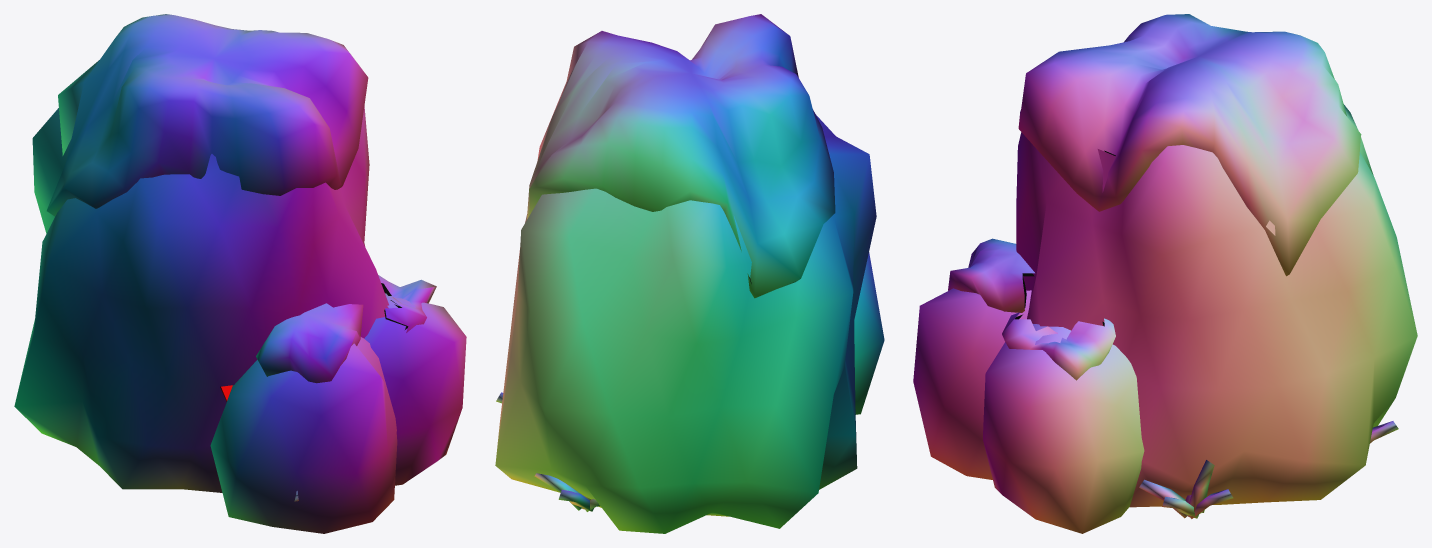
File: SM_Outcrop_March_V1.fbx
3 renders of one model, left to right at view 1: azimuth 30°, elevation 25°; view 2: azimuth 150°, elevation 25°; view 3: azimuth 270°, elevation 25°, orthographic. The views are drawn at different scales.
Visible parts, largest first — view 1: SM_Outcrop_March_V1; view 2: SM_Outcrop_March_V1; view 3: SM_Outcrop_March_V1.
Boxes of the visible parts, <box> form: SM_Outcrop_March_V1: <box>14,14,466,533</box>; SM_Outcrop_March_V1: <box>495,14,884,533</box>; SM_Outcrop_March_V1: <box>913,14,1417,533</box>.
Size of the model in its own units: 1.36 by 1.44 by 1.65.
